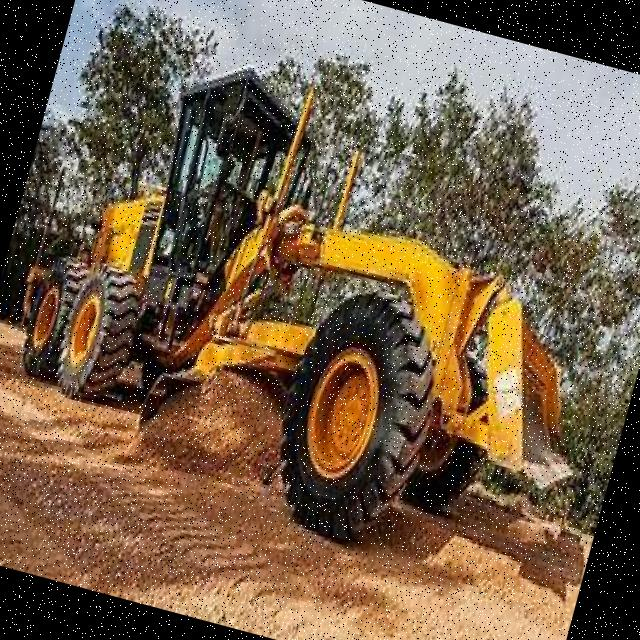Grader: (0, 26, 575, 597)
